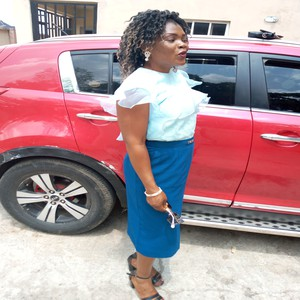Fulokoja_female_student: (118, 10, 191, 285)
